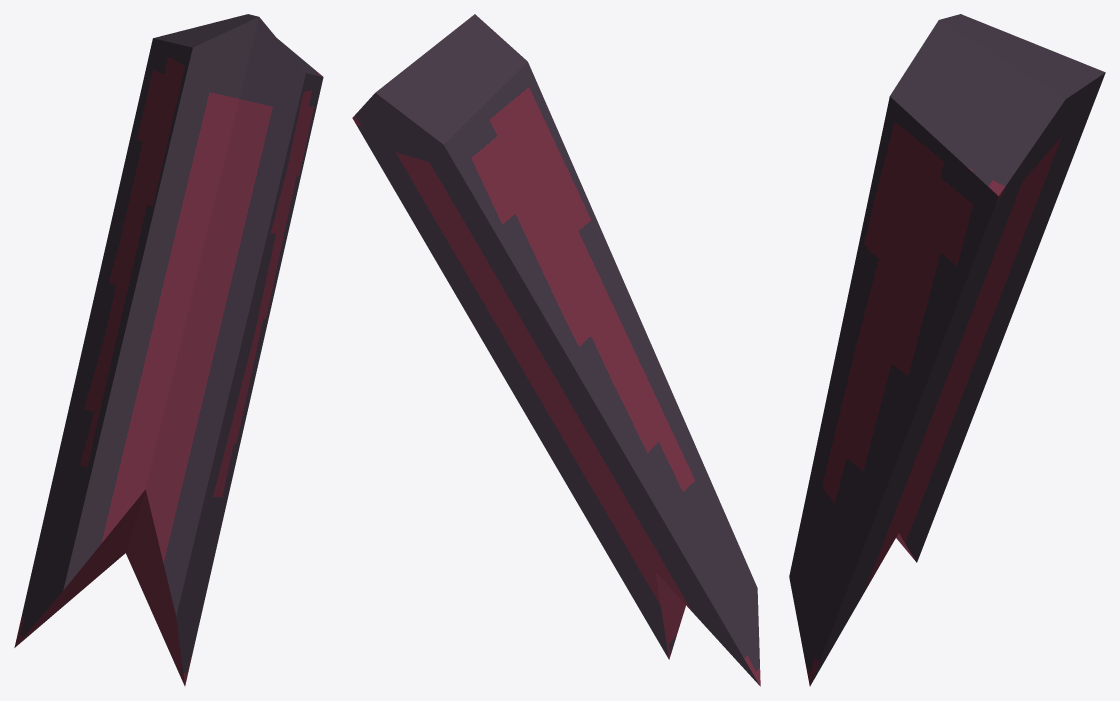
File: mantis_fist.glb
3 renders of one model, left to right at view 1: azimuth 30°, elevation 25°; view 2: azimuth 150°, elevation 25°; view 3: azimuth 270°, elevation 25°, orthographic. The views are drawn at different scales.
Parts seen in each view (by area): view 1: Cube.145; view 2: Cube.145; view 3: Cube.145.
Boxes of the visible parts, x1,y1,x2,y2 form: Cube.145: (14, 14, 323, 686); Cube.145: (352, 14, 760, 686); Cube.145: (789, 14, 1105, 686).
Size of the model in its own units: 1.23 by 2.06 by 0.7968.
1 material, 1 textured.
